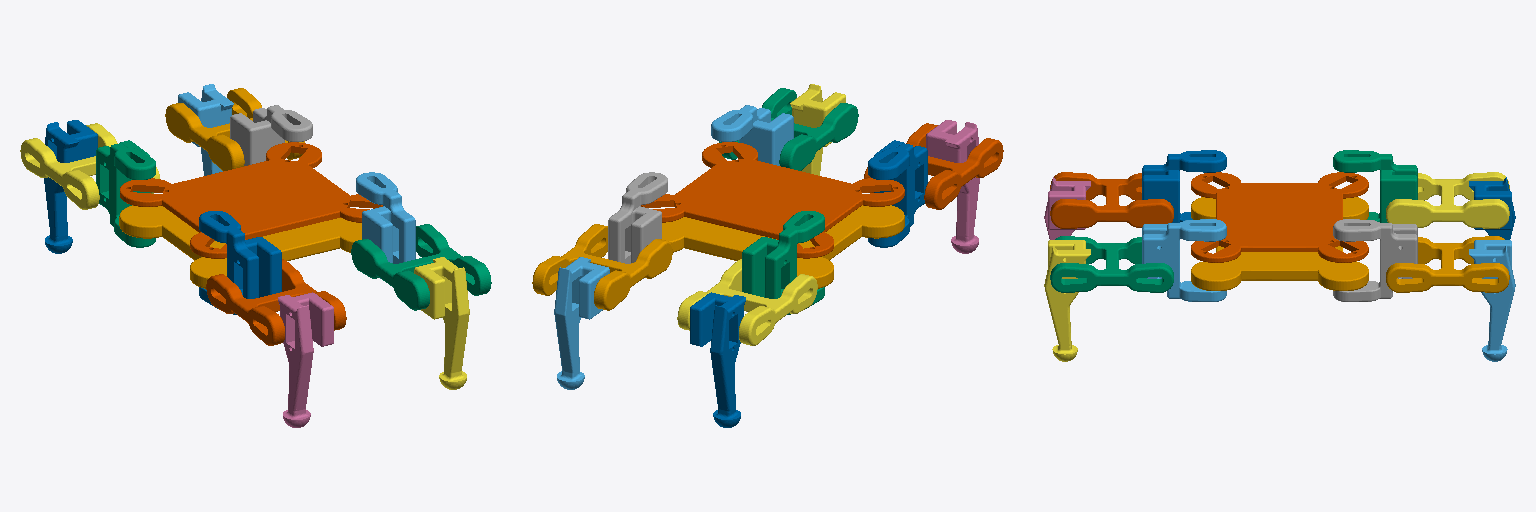
URDF robot description (quadruped):
<?xml version="1.0" ?>
<robot name="quadruped" xmlns:xacro="http://www.ros.org/wiki/xacro">

<link name="base_link">
  <inertial>
    <origin xyz="0.00163269153982156 -0.00182706423624738 -0.0400476186324271" rpy="0 0 0"/>
    <mass value="0.163845397110169"/>
    <inertia ixx="0.000213402020969405" iyy="0.000302434046961449" izz="0.000513114747208674" ixy="-1.201248361510656e-16" iyz="-4.96152710143796e-10" ixz="3.933621007048971e-18"/>
  </inertial>
  <visual>
    <origin xyz="0 0 0" rpy="0 0 0"/>
    <geometry>
      <mesh filename="base_link.stl" scale="0.001 0.001 0.001"/>
    </geometry>
    <material name="abs_white"/>
  </visual>
  <collision>
    <origin xyz="0 0 0" rpy="0 0 0"/>
    <geometry>
      <mesh filename="base_link.stl" scale="0.001 0.001 0.001"/>
    </geometry>
  </collision>
</link>

<link name="fr_hip">
  <inertial>
    <origin xyz="-0.006684922476042292 -0.02768076586198904 0.011946122181396599" rpy="0 0 0"/>
    <mass value="0.0441842954273049"/>
    <inertia ixx="2.88752105093281e-05" iyy="1.98454194982597e-05" izz="1.7068851480669e-05" ixy="-3.26156570682335e-06" iyz="9.43270807229662e-07" ixz="2.322956451452e-07"/>
  </inertial>
  <visual>
    <origin xyz="-0.065762 0.05514 0.038083" rpy="0 0 0"/>
    <geometry>
      <mesh filename="fr_hip.stl" scale="0.001 0.001 0.001"/>
    </geometry>
    <material name="abs_white"/>
  </visual>
  <collision>
    <origin xyz="-0.065762 0.05514 0.038083" rpy="0 0 0"/>
    <geometry>
      <mesh filename="fr_hip.stl" scale="0.001 0.001 0.001"/>
    </geometry>
  </collision>
</link>

<link name="fr_mid">
  <inertial>
    <origin xyz="0.024304344772111887 -0.03706526562805769 -3.759700298103241e-07" rpy="0 0 0"/>
    <mass value="0.0356783410342055"/>
    <inertia ixx="2.728231834984e-05" iyy="2.18994493548319e-05" izz="4.69872353001636e-05" ixy="-1.049260992761619e-12" iyz="-1.552309442012095e-13" ixz="2.183775350220879e-13"/>
  </inertial>
  <visual>
    <origin xyz="-0.035762 0.096481 0.030533" rpy="0 0 0"/>
    <geometry>
      <mesh filename="fr_mid.stl" scale="0.001 0.001 0.001"/>
    </geometry>
    <material name="abs_white"/>
  </visual>
  <collision>
    <origin xyz="-0.035762 0.096481 0.030533" rpy="0 0 0"/>
    <geometry>
      <mesh filename="fr_mid.stl" scale="0.001 0.001 0.001"/>
    </geometry>
  </collision>
</link>

<link name="fr_end">
  <inertial>
    <origin xyz="0.024862132061746436 0.0011902105874371793 -0.018006904132433724" rpy="0 0 0"/>
    <mass value="0.0299344035282369"/>
    <inertia ixx="2.21448121741883e-05" iyy="2.26143404728166e-05" izz="4.64804114255887e-06" ixy="2.65916666229303e-07" iyz="-1.3797819782097e-06" ixz="3.44128407687838e-06"/>
  </inertial>
  <visual>
    <origin xyz="-0.033762 0.170612 0.030533" rpy="0 0 0"/>
    <geometry>
      <mesh filename="fr_end.stl" scale="0.001 0.001 0.001"/>
    </geometry>
    <material name="abs_white"/>
  </visual>
  <collision>
    <origin xyz="-0.033762 0.170612 0.030533" rpy="0 0 0"/>
    <geometry>
      <mesh filename="fr_end.stl" scale="0.001 0.001 0.001"/>
    </geometry>
  </collision>
</link>

<link name="br_hip">
  <inertial>
    <origin xyz="0.0066842790868109 -0.027680768544805327 0.01194612303749059" rpy="0 0 0"/>
    <mass value="0.0441843988105653"/>
    <inertia ixx="2.88752420285983e-05" iyy="1.98454377415394e-05" izz="1.70688764859079e-05" ixy="3.26158171270284e-06" iyz="9.43253148853897e-07" ixz="-2.32252787079728e-07"/>
  </inertial>
  <visual>
    <origin xyz="0.062496 0.05514 0.038083" rpy="0 0 0"/>
    <geometry>
      <mesh filename="br_hip.stl" scale="0.001 0.001 0.001"/>
    </geometry>
    <material name="abs_white"/>
  </visual>
  <collision>
    <origin xyz="0.062496 0.05514 0.038083" rpy="0 0 0"/>
    <geometry>
      <mesh filename="br_hip.stl" scale="0.001 0.001 0.001"/>
    </geometry>
  </collision>
</link>

<link name="br_mid">
  <inertial>
    <origin xyz="-0.024304961674508505 -0.03706526545515594 -3.7542838836335246e-07" rpy="0 0 0"/>
    <mass value="0.0356783428325288"/>
    <inertia ixx="2.72823189324833e-05" iyy="2.18994500731729e-05" izz="4.69872365275284e-05" ixy="1.239602550381219e-12" iyz="1.859741473233395e-13" ixz="2.841820474688145e-13"/>
  </inertial>
  <visual>
    <origin xyz="0.032496 0.096481 0.030533" rpy="0 0 0"/>
    <geometry>
      <mesh filename="br_mid.stl" scale="0.001 0.001 0.001"/>
    </geometry>
    <material name="abs_white"/>
  </visual>
  <collision>
    <origin xyz="0.032496 0.096481 0.030533" rpy="0 0 0"/>
    <geometry>
      <mesh filename="br_mid.stl" scale="0.001 0.001 0.001"/>
    </geometry>
  </collision>
</link>

<link name="br_end">
  <inertial>
    <origin xyz="-0.024862748982052024 0.0011902105873204671 -0.018006904132492566" rpy="0 0 0"/>
    <mass value="0.0299344035279718"/>
    <inertia ixx="2.21448121741301e-05" iyy="2.26143404728e-05" izz="4.6480411425077e-06" ixy="-2.65916666243615e-07" iyz="-1.37978197818633e-06" ixz="-3.44128407688441e-06"/>
  </inertial>
  <visual>
    <origin xyz="0.030496 0.170612 0.030533" rpy="0 0 0"/>
    <geometry>
      <mesh filename="br_end.stl" scale="0.001 0.001 0.001"/>
    </geometry>
    <material name="abs_white"/>
  </visual>
  <collision>
    <origin xyz="0.030496 0.170612 0.030533" rpy="0 0 0"/>
    <geometry>
      <mesh filename="br_end.stl" scale="0.001 0.001 0.001"/>
    </geometry>
  </collision>
</link>

<link name="fl_hip">
  <inertial>
    <origin xyz="-0.006684896007154356 0.027679998216628247 0.01194612303748923" rpy="0 0 0"/>
    <mass value="0.0441843988105653"/>
    <inertia ixx="2.88752420285979e-05" iyy="1.98454377415393e-05" izz="1.70688764859077e-05" ixy="3.26158171270289e-06" iyz="-9.43253148853613e-07" ixz="2.32252787080799e-07"/>
  </inertial>
  <visual>
    <origin xyz="-0.065762 -0.051742 0.038083" rpy="0 0 0"/>
    <geometry>
      <mesh filename="fl_hip.stl" scale="0.001 0.001 0.001"/>
    </geometry>
    <material name="abs_white"/>
  </visual>
  <collision>
    <origin xyz="-0.065762 -0.051742 0.038083" rpy="0 0 0"/>
    <geometry>
      <mesh filename="fl_hip.stl" scale="0.001 0.001 0.001"/>
    </geometry>
  </collision>
</link>

<link name="fl_mid">
  <inertial>
    <origin xyz="0.024304344754165617 0.03706549512697854 -3.754283903166511e-07" rpy="0 0 0"/>
    <mass value="0.0356783428325288"/>
    <inertia ixx="2.72823189324821e-05" iyy="2.18994500731717e-05" izz="4.69872365275285e-05" ixy="1.239603743003609e-12" iyz="-1.859737949576334e-13" ixz="-2.841823727294662e-13"/>
  </inertial>
  <visual>
    <origin xyz="-0.035762 -0.093082 0.030533" rpy="0 0 0"/>
    <geometry>
      <mesh filename="fl_mid.stl" scale="0.001 0.001 0.001"/>
    </geometry>
    <material name="abs_white"/>
  </visual>
  <collision>
    <origin xyz="-0.035762 -0.093082 0.030533" rpy="0 0 0"/>
    <geometry>
      <mesh filename="fl_mid.stl" scale="0.001 0.001 0.001"/>
    </geometry>
  </collision>
</link>

<link name="fl_end">
  <inertial>
    <origin xyz="0.02486213206171041 -0.0011899809154980734 -0.01800690413249514" rpy="0 0 0"/>
    <mass value="0.0299344035279718"/>
    <inertia ixx="2.21448121741299e-05" iyy="2.26143404727999e-05" izz="4.64804114250835e-06" ixy="-2.65916666243615e-07" iyz="1.37978197818625e-06" ixz="3.4412840768857e-06"/>
  </inertial>
  <visual>
    <origin xyz="-0.033762 -0.167213 0.030533" rpy="0 0 0"/>
    <geometry>
      <mesh filename="fl_end.stl" scale="0.001 0.001 0.001"/>
    </geometry>
    <material name="abs_white"/>
  </visual>
  <collision>
    <origin xyz="-0.033762 -0.167213 0.030533" rpy="0 0 0"/>
    <geometry>
      <mesh filename="fl_end.stl" scale="0.001 0.001 0.001"/>
    </geometry>
  </collision>
</link>

<link name="bl_hip">
  <inertial>
    <origin xyz="0.0066843055556989606 0.027679995533813263 0.011946122181395926" rpy="0 0 0"/>
    <mass value="0.0441842954273049"/>
    <inertia ixx="2.88752105093284e-05" iyy="1.98454194982597e-05" izz="1.70688514806691e-05" ixy="-3.26156570682338e-06" iyz="-9.43270807229974e-07" ixz="-2.32295645144034e-07"/>
  </inertial>
  <visual>
    <origin xyz="0.062496 -0.051742 0.038083" rpy="0 0 0"/>
    <geometry>
      <mesh filename="bl_hip.stl" scale="0.001 0.001 0.001"/>
    </geometry>
    <material name="abs_white"/>
  </visual>
  <collision>
    <origin xyz="0.062496 -0.051742 0.038083" rpy="0 0 0"/>
    <geometry>
      <mesh filename="bl_hip.stl" scale="0.001 0.001 0.001"/>
    </geometry>
  </collision>
</link>

<link name="bl_mid">
  <inertial>
    <origin xyz="-0.0243049616924549 0.037065495299881235 -3.7597003122238903e-07" rpy="0 0 0"/>
    <mass value="0.0356783410342055"/>
    <inertia ixx="2.72823183498413e-05" iyy="2.18994493548331e-05" izz="4.69872353001631e-05" ixy="-1.049259854349338e-12" iyz="1.552315134073501e-13" ixz="-2.183779280453754e-13"/>
  </inertial>
  <visual>
    <origin xyz="0.032496 -0.093082 0.030533" rpy="0 0 0"/>
    <geometry>
      <mesh filename="bl_mid.stl" scale="0.001 0.001 0.001"/>
    </geometry>
    <material name="abs_white"/>
  </visual>
  <collision>
    <origin xyz="0.032496 -0.093082 0.030533" rpy="0 0 0"/>
    <geometry>
      <mesh filename="bl_mid.stl" scale="0.001 0.001 0.001"/>
    </geometry>
  </collision>
</link>

<link name="bl_end">
  <inertial>
    <origin xyz="-0.024862748982088245 -0.0011899809156137864 -0.01800690413243548" rpy="0 0 0"/>
    <mass value="0.0299344035282369"/>
    <inertia ixx="2.21448121741886e-05" iyy="2.26143404728166e-05" izz="4.64804114255844e-06" ixy="2.65916666229249e-07" iyz="1.37978197820959e-06" ixz="-3.44128407687709e-06"/>
  </inertial>
  <visual>
    <origin xyz="0.030496 -0.167213 0.030533" rpy="0 0 0"/>
    <geometry>
      <mesh filename="bl_end.stl" scale="0.001 0.001 0.001"/>
    </geometry>
    <material name="abs_white"/>
  </visual>
  <collision>
    <origin xyz="0.030496 -0.167213 0.030533" rpy="0 0 0"/>
    <geometry>
      <mesh filename="bl_end.stl" scale="0.001 0.001 0.001"/>
    </geometry>
  </collision>
</link>

<link name="base_upper">
  <inertial>
    <origin xyz="-3.090257922487485e-07 -0.00013773495515434606 0.01749907816124257" rpy="0 0 0"/>
    <mass value="0.076748693848984"/>
    <inertia ixx="9.35094400270094e-05" iyy="0.00013240874772986" izz="0.000225600158100052" ixy="-2.160999124436590e-12" iyz="-2.08548873514437e-09" ixz="-1.171211277240609e-13"/>
  </inertial>
  <visual>
    <origin xyz="-0.001633 0.001825 0.035083" rpy="0 0 0"/>
    <geometry>
      <mesh filename="base_upper.stl" scale="0.001 0.001 0.001"/>
    </geometry>
    <material name="abs_white"/>
  </visual>
  <collision>
    <origin xyz="-0.001633 0.001825 0.035083" rpy="0 0 0"/>
    <geometry>
      <mesh filename="base_upper.stl" scale="0.001 0.001 0.001"/>
    </geometry>
  </collision>
</link>

<joint name="frontRightHip" type="revolute">
  <origin xyz="0.065762 -0.05514 -0.038083" rpy="0 0 0"/>
  <parent link="base_link"/>
  <child link="fr_hip"/>
  <axis xyz="-0.0 -0.0 -1.0"/>
  <limit upper="0.785398" lower="-2.356194" effort="100" velocity="100"/>
</joint>

<joint name="frontRightMid" type="revolute">
  <origin xyz="-0.03 -0.041341 0.00755" rpy="0 0 0"/>
  <parent link="fr_hip"/>
  <child link="fr_mid"/>
  <axis xyz="-1.0 0.0 -0.0"/>
  <limit upper="1.570796" lower="-1.570796" effort="100" velocity="100"/>
</joint>

<joint name="frontRightEnd" type="revolute">
  <origin xyz="-0.002 -0.074131 0.0" rpy="0 0 0"/>
  <parent link="fr_mid"/>
  <child link="fr_end"/>
  <axis xyz="1.0 0.0 0.0"/>
  <limit upper="0.0" lower="-3.141593" effort="100" velocity="100"/>
</joint>

<joint name="backRightHip" type="revolute">
  <origin xyz="-0.062496 -0.05514 -0.038083" rpy="0 0 0"/>
  <parent link="base_link"/>
  <child link="br_hip"/>
  <axis xyz="-0.0 -0.0 -1.0"/>
  <limit upper="2.356194" lower="-0.785398" effort="100" velocity="100"/>
</joint>

<joint name="backRightMid" type="revolute">
  <origin xyz="0.03 -0.041341 0.00755" rpy="0 0 0"/>
  <parent link="br_hip"/>
  <child link="br_mid"/>
  <axis xyz="1.0 -0.0 0.0"/>
  <limit upper="1.570796" lower="-1.570796" effort="100" velocity="100"/>
</joint>

<joint name="backRightEnd" type="revolute">
  <origin xyz="0.002 -0.074131 0.0" rpy="0 0 0"/>
  <parent link="br_mid"/>
  <child link="br_end"/>
  <axis xyz="-1.0 0.0 -0.0"/>
  <limit upper="3.141593" lower="0.0" effort="100" velocity="100"/>
</joint>

<joint name="frontLeftHip" type="revolute">
  <origin xyz="0.065762 0.051742 -0.038083" rpy="0 0 0"/>
  <parent link="base_link"/>
  <child link="fl_hip"/>
  <axis xyz="-0.0 -0.0 -1.0"/>
  <limit upper="2.356194" lower="-0.785398" effort="100" velocity="100"/>
</joint>

<joint name="frontLeftMid" type="revolute">
  <origin xyz="-0.03 0.04134 0.00755" rpy="0 0 0"/>
  <parent link="fl_hip"/>
  <child link="fl_mid"/>
  <axis xyz="-1.0 0.0 -0.0"/>
  <limit upper="1.570796" lower="-1.570796" effort="100" velocity="100"/>
</joint>

<joint name="frontLeftEnd" type="revolute">
  <origin xyz="-0.002 0.074131 0.0" rpy="0 0 0"/>
  <parent link="fl_mid"/>
  <child link="fl_end"/>
  <axis xyz="1.0 -0.0 0.0"/>
  <limit upper="3.141593" lower="0.0" effort="100" velocity="100"/>
</joint>

<joint name="backLeftHip" type="revolute">
  <origin xyz="-0.062496 0.051742 -0.038083" rpy="0 0 0"/>
  <parent link="base_link"/>
  <child link="bl_hip"/>
  <axis xyz="-0.0 -0.0 -1.0"/>
  <limit upper="0.785398" lower="-2.356194" effort="100" velocity="100"/>
</joint>

<joint name="backLeftMid" type="revolute">
  <origin xyz="0.03 0.04134 0.00755" rpy="0 0 0"/>
  <parent link="bl_hip"/>
  <child link="bl_mid"/>
  <axis xyz="1.0 -0.0 0.0"/>
  <limit upper="1.570796" lower="-1.570796" effort="100" velocity="100"/>
</joint>

<joint name="backLeftEnd" type="revolute">
  <origin xyz="0.002 0.074131 0.0" rpy="0 0 0"/>
  <parent link="bl_mid"/>
  <child link="bl_end"/>
  <axis xyz="-1.0 -0.0 -0.0"/>
  <limit upper="0.0" lower="-3.141593" effort="100" velocity="100"/>
</joint>

<joint name="Rigid_14" type="fixed">
  <origin xyz="0.001633 -0.001825 -0.035083" rpy="0 0 0"/>
  <parent link="base_link"/>
  <child link="base_upper"/>
</joint>

</robot>

--- Facts derived from the render (not from the file) ---
Views: 3 orthographic renders of the robot side by side, from view 1: azimuth 30°, elevation 25°; view 2: azimuth 150°, elevation 25°; view 3: azimuth 270°, elevation 25°.
Robot: quadruped — 14 links, 13 joints (12 revolute, 1 fixed); root link base_link; default pose: every joint at zero.
Links seen in each view (by area): view 1: base_upper, base_link, fr_mid, br_end, br_hip, br_mid, fr_end, fr_hip, bl_hip, fl_mid, bl_mid, bl_end (+2 smaller); view 2: base_upper, base_link, fl_mid, bl_end, bl_hip, bl_mid, fl_end, fl_hip, fr_mid, br_hip, br_end, br_mid (+2 smaller); view 3: base_upper, base_link, br_mid, bl_mid, fr_mid, fl_mid, fl_hip, fr_hip, bl_hip, br_hip, fr_end, fl_end (+2 smaller).
Boxes of the visible links, <box> form: base_upper: <box>120,142,382,258</box>; base_link: <box>119,205,361,288</box>; fr_mid: <box>351,224,491,310</box>; br_end: <box>278,292,333,427</box>; br_hip: <box>199,211,281,314</box>; br_mid: <box>206,259,346,345</box>; fr_end: <box>414,257,469,389</box>; fr_hip: <box>356,172,415,278</box>; bl_hip: <box>96,140,155,247</box>; fl_mid: <box>165,88,304,170</box>; bl_mid: <box>20,123,159,209</box>; bl_end: <box>44,120,97,253</box>; base_upper: <box>641,142,904,258</box>; base_link: <box>662,205,904,288</box>; fl_mid: <box>532,224,672,310</box>; bl_end: <box>690,292,745,427</box>; bl_hip: <box>742,211,824,314</box>; bl_mid: <box>677,259,817,345</box>; fl_end: <box>554,257,609,389</box>; fl_hip: <box>608,172,667,278</box>; fr_mid: <box>719,88,858,170</box>; br_hip: <box>868,140,927,247</box>; br_end: <box>926,120,979,253</box>; br_mid: <box>864,123,1003,209</box>; base_upper: <box>1191,172,1368,262</box>; base_link: <box>1191,197,1368,290</box>; br_mid: <box>1050,172,1173,228</box>; bl_mid: <box>1386,172,1509,228</box>; fr_mid: <box>1050,236,1173,292</box>; fl_mid: <box>1386,236,1509,292</box>; fl_hip: <box>1333,219,1417,301</box>; fr_hip: <box>1142,219,1226,301</box>; bl_hip: <box>1333,150,1417,222</box>; br_hip: <box>1142,150,1226,222</box>; fr_end: <box>1044,240,1090,361</box>; fl_end: <box>1469,240,1515,361</box>.
Bounding box of the posed robot: 0.1793 × 0.3703 × 0.1182 m (x, y, z).
14 mesh visuals loaded from 14 distinct referenced files (14 binary STL).
